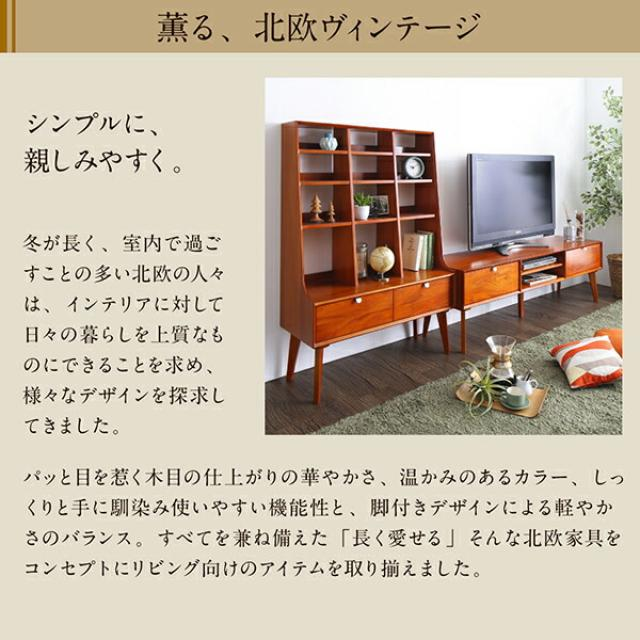vintage shelf: (273, 119, 449, 391), (448, 235, 610, 315)
